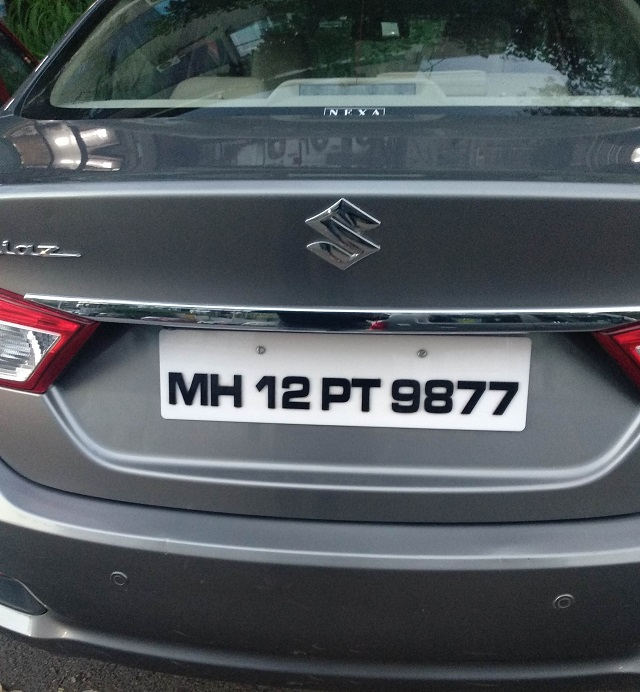licenseplate: (160, 322, 536, 439)
